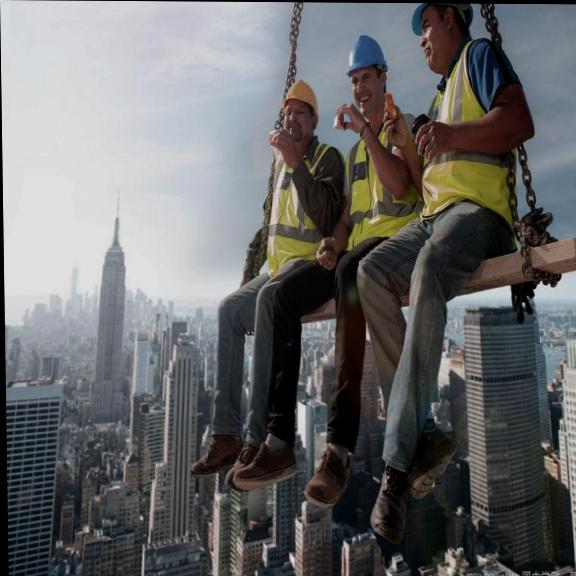safety_vest: (417, 73, 475, 211), (268, 146, 328, 275)
